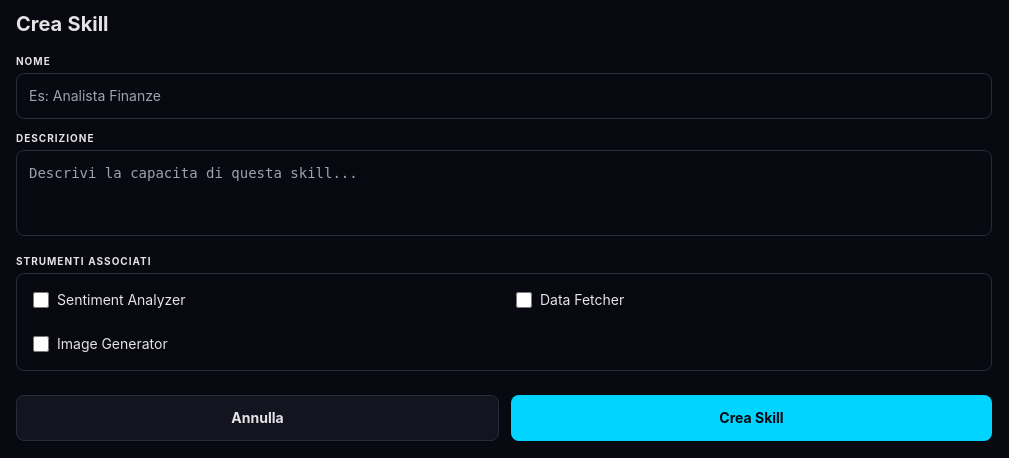
it: SkillForm › shows Salvataggio... on submit button while saving
Click the button "Crea Skill" at (752, 418), box left=511, top=395, right=992, bottom=441
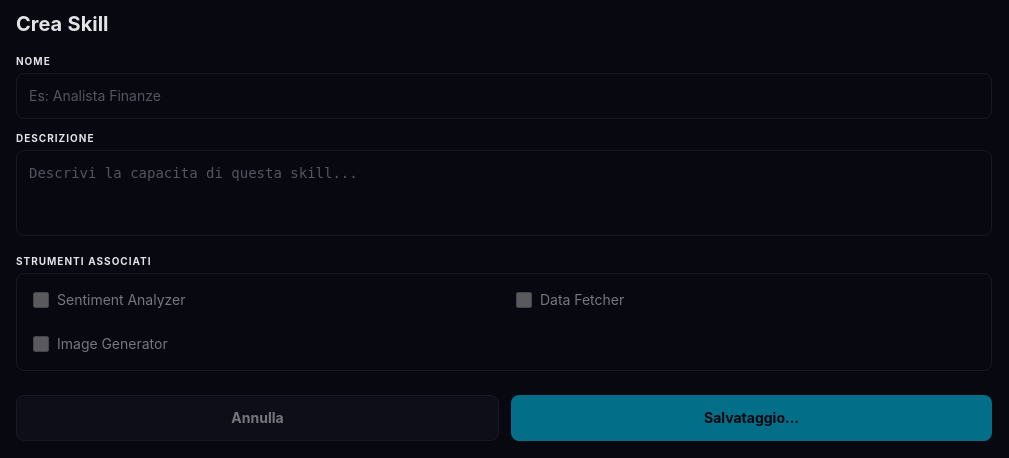
Expected: the button "Salvataggio..." is shown, left=511, top=395, right=992, bottom=441
